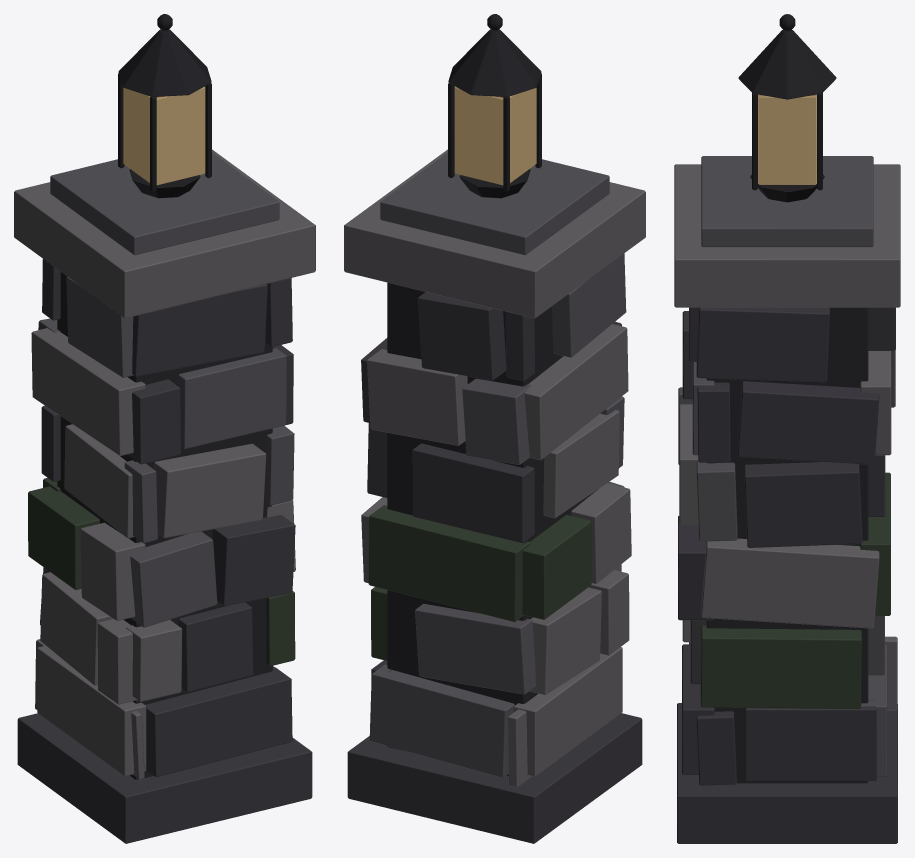
File: SM_ENV_PilarPortao.fbx
The picture shows the model from 3 angles, left to right: view 1: azimuth 30°, elevation 25°; view 2: azimuth 150°, elevation 25°; view 3: azimuth 270°, elevation 25°; orthographic projection. The views are drawn at different scales.
Visible parts, largest first — view 1: SM_ENV_PilarPortao; view 2: SM_ENV_PilarPortao; view 3: SM_ENV_PilarPortao.
Boxes of the visible parts, box(x1,y1,x2,y2) form: SM_ENV_PilarPortao: box(14, 14, 315, 843); SM_ENV_PilarPortao: box(344, 14, 645, 843); SM_ENV_PilarPortao: box(674, 14, 900, 843).
Size of the model in its own units: 0.84 by 3.21 by 0.84.
